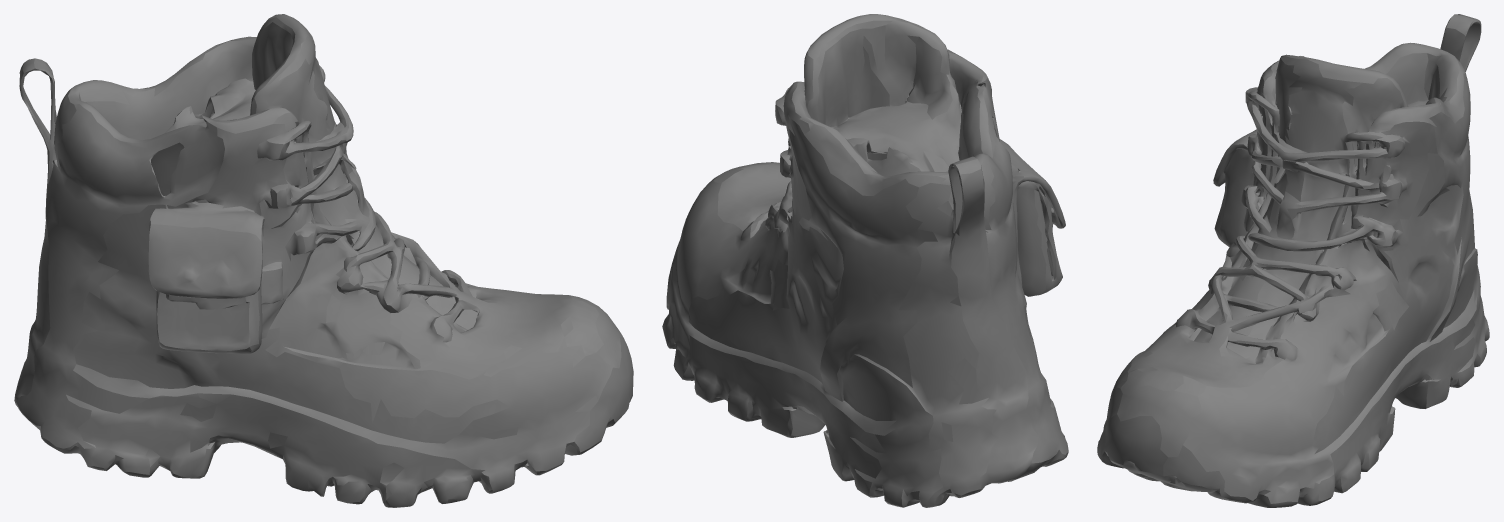
File: completion_boot_1.glb
The picture shows the model from 3 angles, left to right: view 1: azimuth 30°, elevation 25°; view 2: azimuth 150°, elevation 25°; view 3: azimuth 270°, elevation 25°; orthographic projection. The views are drawn at different scales.
Visible parts, largest first — view 1: geometry_0; view 2: geometry_0; view 3: geometry_0.
Part boxes in pixels (left/top/right/bottom): geometry_0: left=14, top=14, right=633, bottom=507; geometry_0: left=662, top=14, right=1068, bottom=507; geometry_0: left=1097, top=14, right=1489, bottom=507.
Bounding box in the file's own units: 1 × 0.8186 × 0.7925.
Materials: 1 (1 with a texture image).
